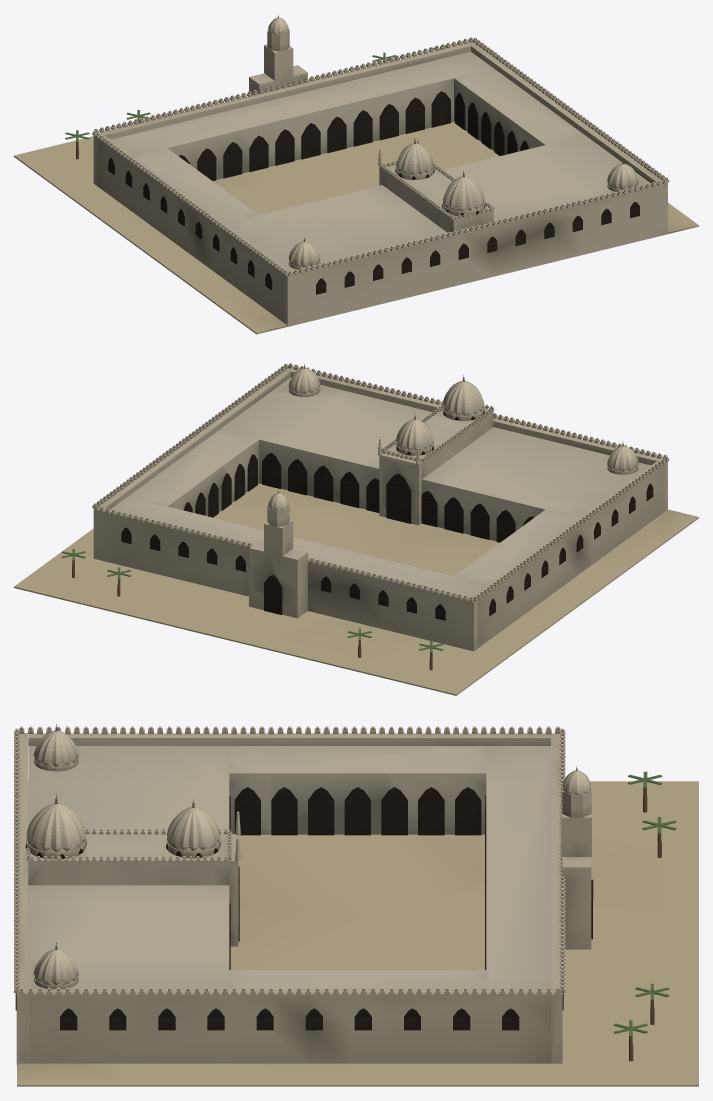
File: al-azhar-972.glb
3 renders of one model, top to bottom at view 1: azimuth 30°, elevation 25°; view 2: azimuth 150°, elevation 25°; view 3: azimuth 270°, elevation 25°, orthographic. The views are drawn at different scales.
Visible parts, largest first — view 1: p0_walls, p1_arcades, p2_domes, p3_minaret; view 2: p0_walls, p1_arcades, p2_domes, p3_minaret; view 3: p0_walls, p1_arcades, p2_domes, p3_minaret.
Part boxes in pixels (x1,y1,x2,y2): p0_walls: [14, 37, 698, 334]; p1_arcades: [110, 51, 650, 270]; p2_domes: [288, 138, 638, 269]; p3_minaret: [65, 15, 446, 147]; p0_walls: [14, 363, 698, 695]; p1_arcades: [110, 377, 650, 596]; p2_domes: [288, 364, 638, 525]; p3_minaret: [61, 490, 443, 658]; p0_walls: [14, 726, 698, 1086]; p1_arcades: [28, 746, 550, 989]; p2_domes: [25, 724, 240, 989]; p3_minaret: [562, 766, 676, 1045].
Bounding box in the file's own units: 100 × 26.01 × 95.4.
